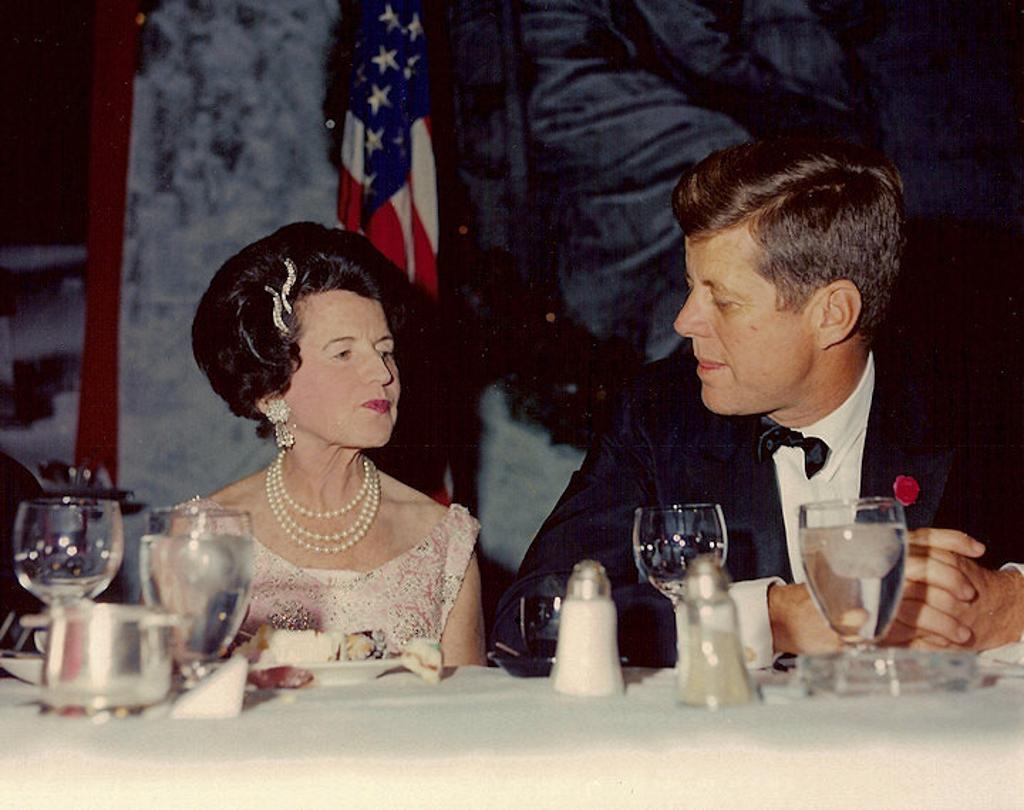face: (678, 222, 820, 412), (286, 274, 404, 448)
